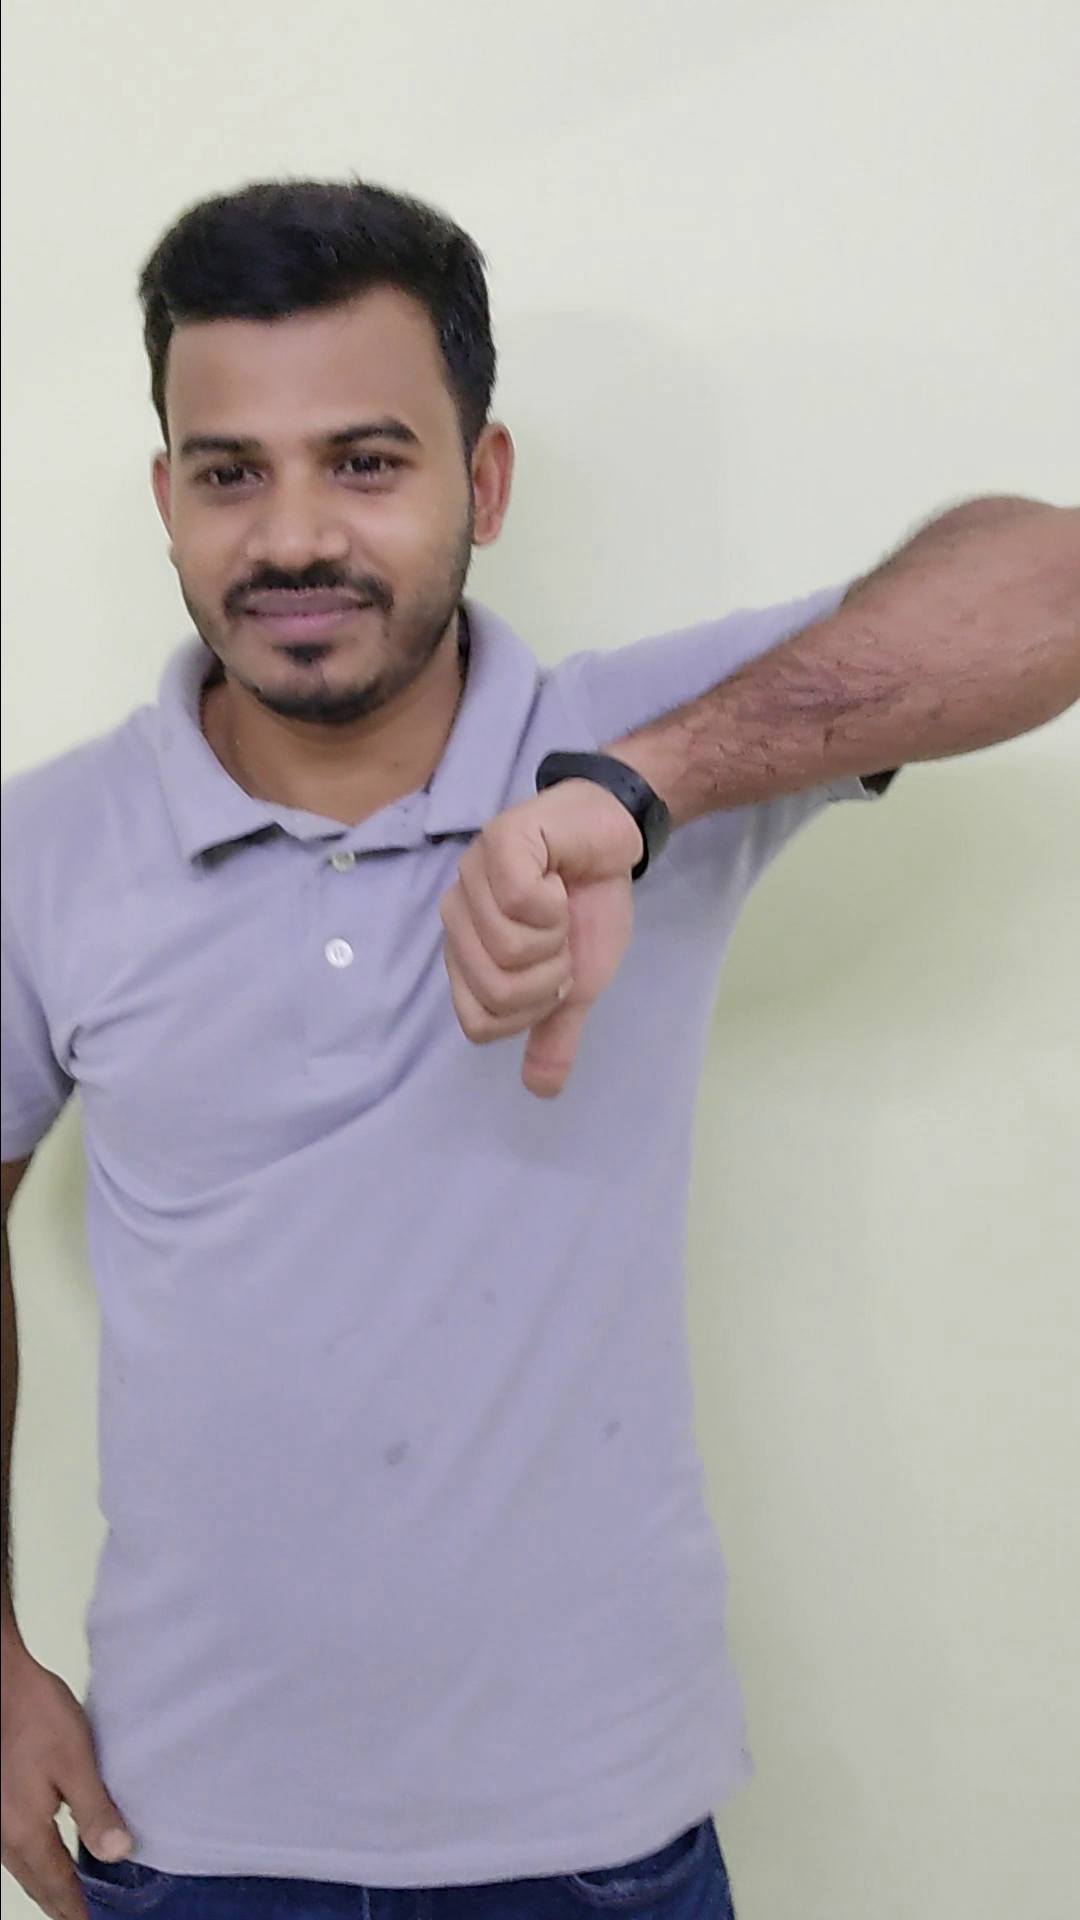Dislike: (427, 741, 655, 1116)
None: (0, 1623, 165, 1920)
